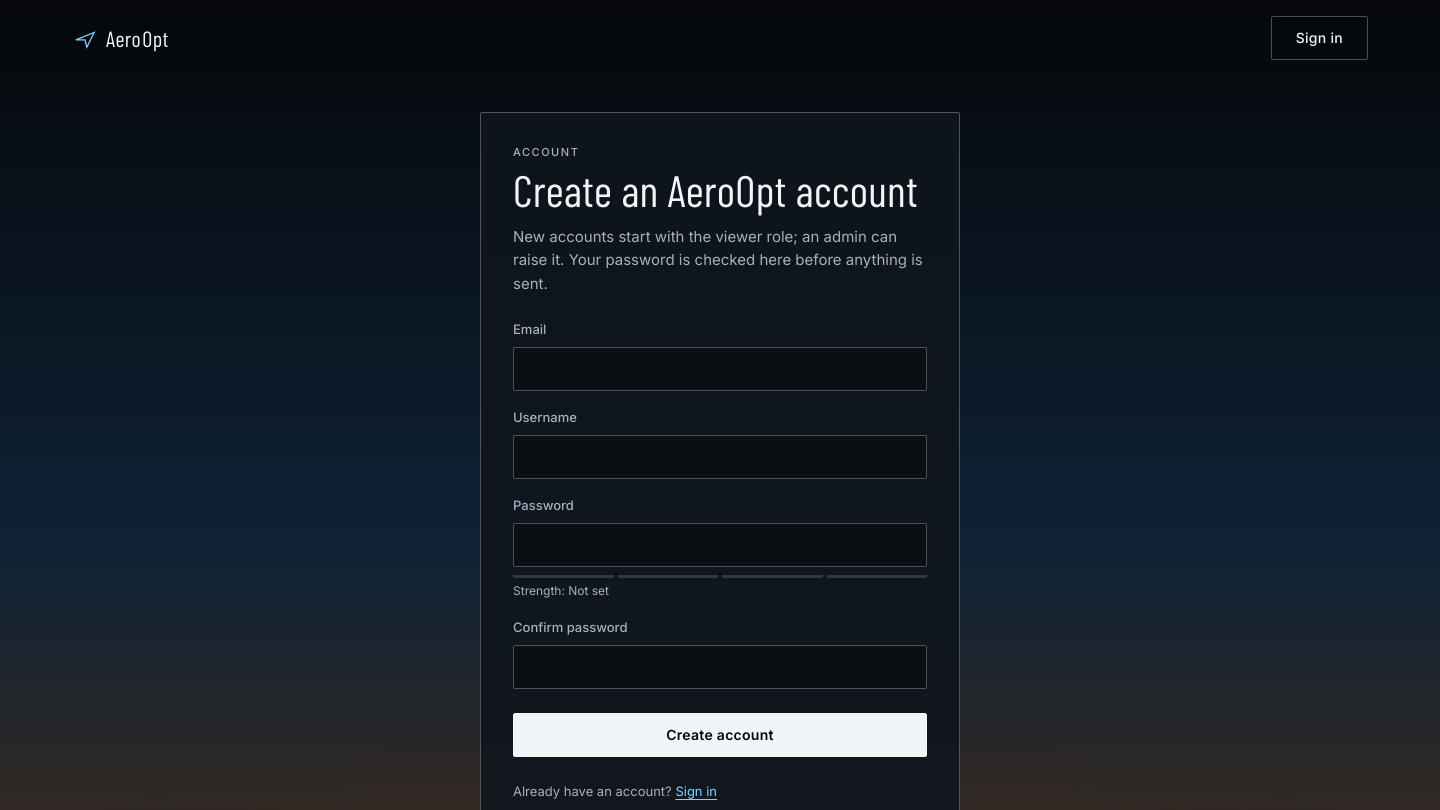
Test: /signup page › shows a duplicate-username error from the server on the username field
The image size is (1440, 810).
Check: the heading "Create an AeroOpt account" is shown, box [513, 167, 927, 213]
Type "pilot@example.org" into the field labelled "Email" at (720, 369), box [513, 347, 927, 391]
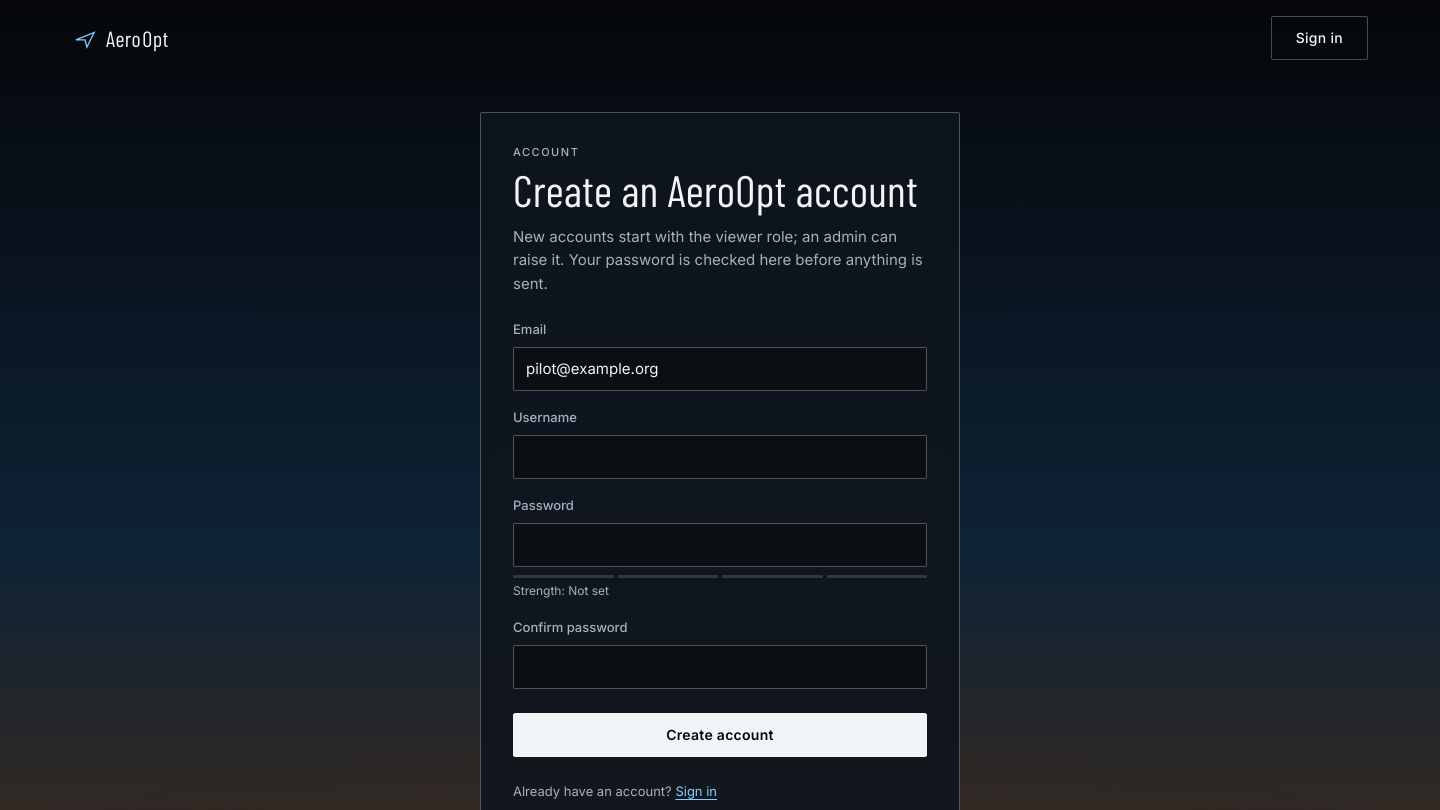
Type "ops.planner" into the field labelled "Username" at (720, 457), box [513, 435, 927, 479]
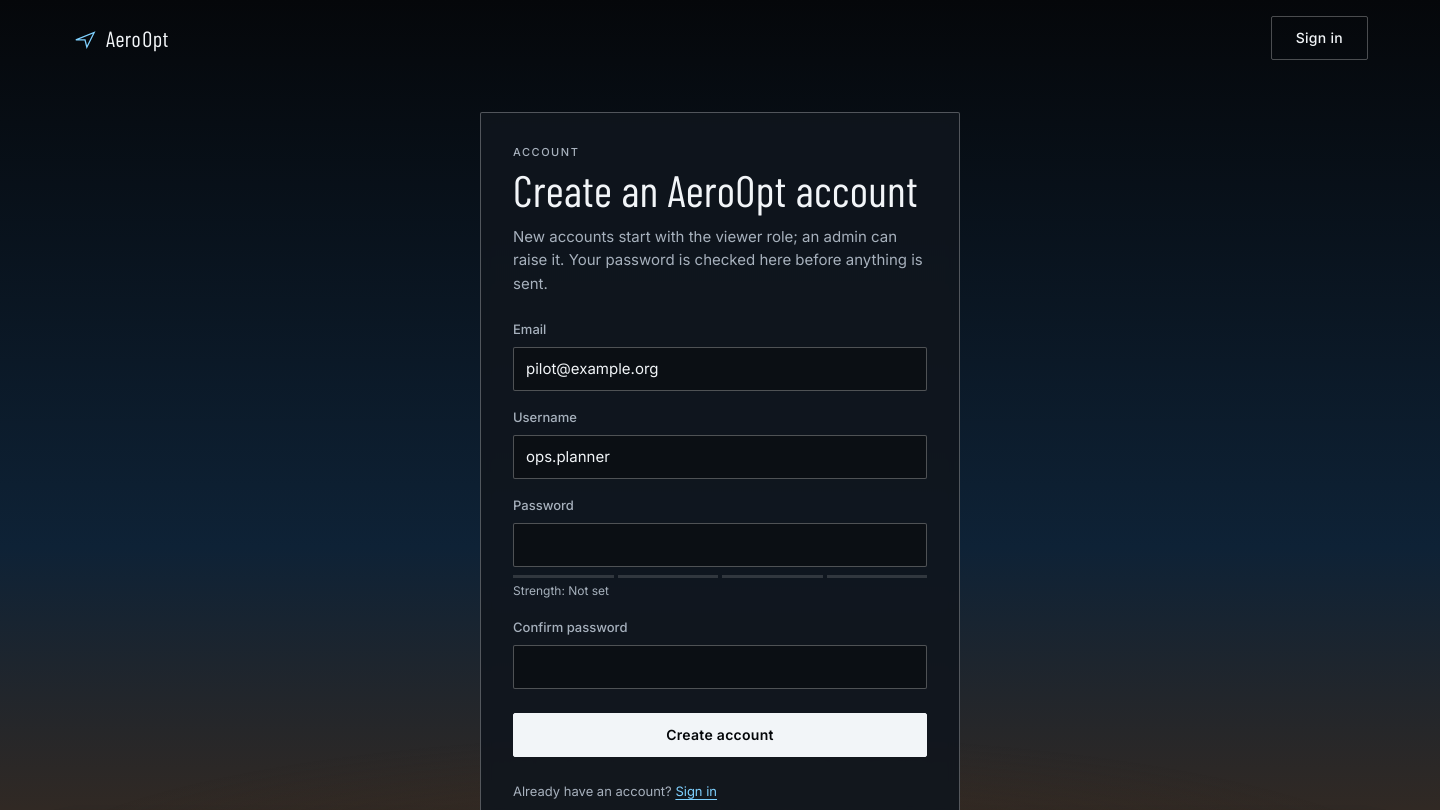
Type "Runway-27Left!" into the password field labelled "Password" at (720, 545), box [513, 523, 927, 567]
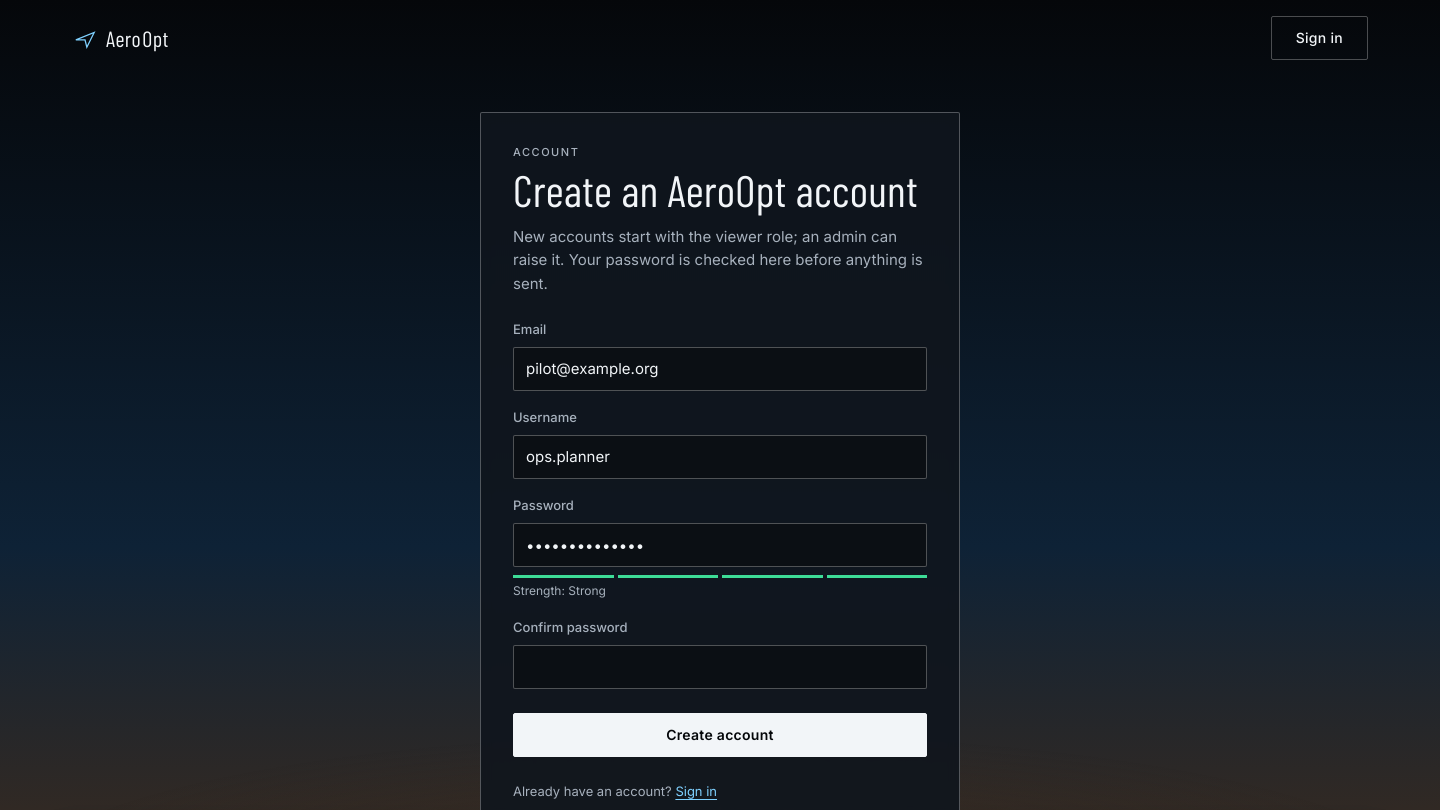
Type "Runway-27Left!" into the password field labelled "Confirm password" at (720, 667), box [513, 645, 927, 689]
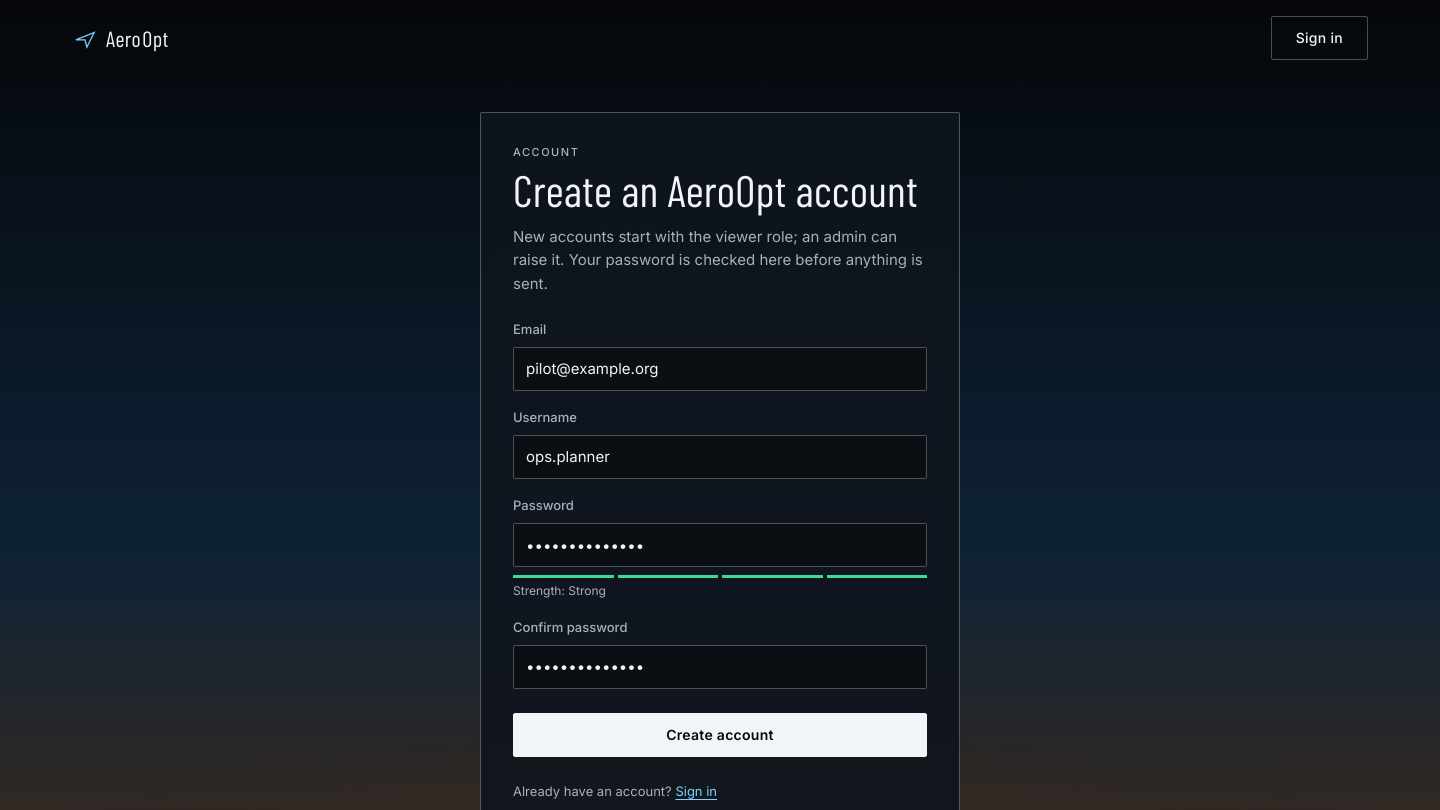
Click the button "Create account" at (720, 735), box [513, 713, 927, 757]
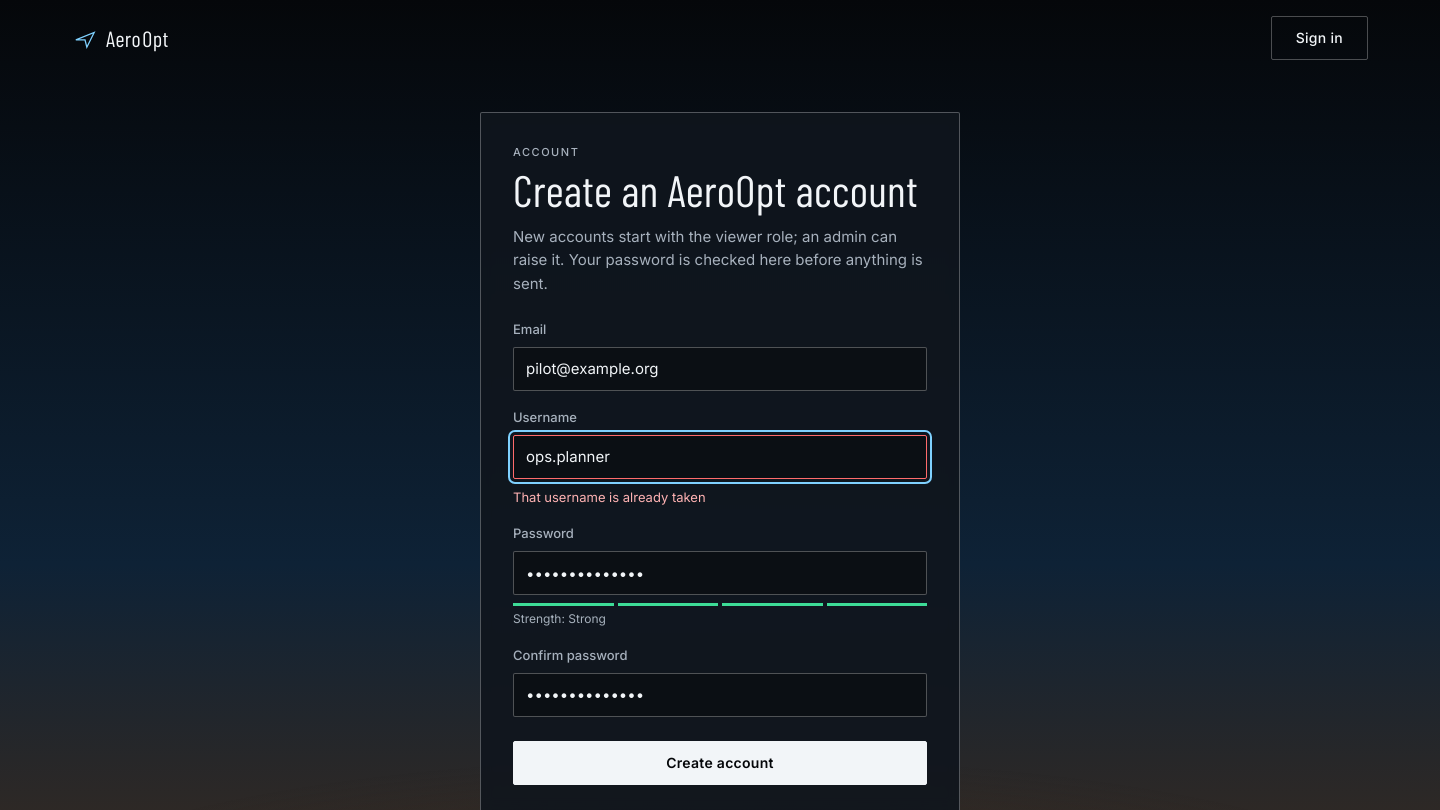
Check: the text "That username is already taken" is shown, box [513, 489, 706, 505]
